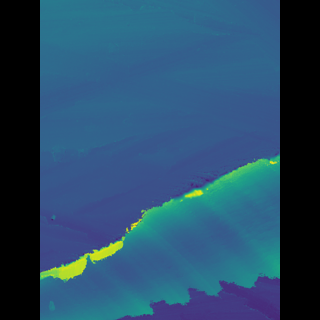Loch: (70, 143, 247, 319)
